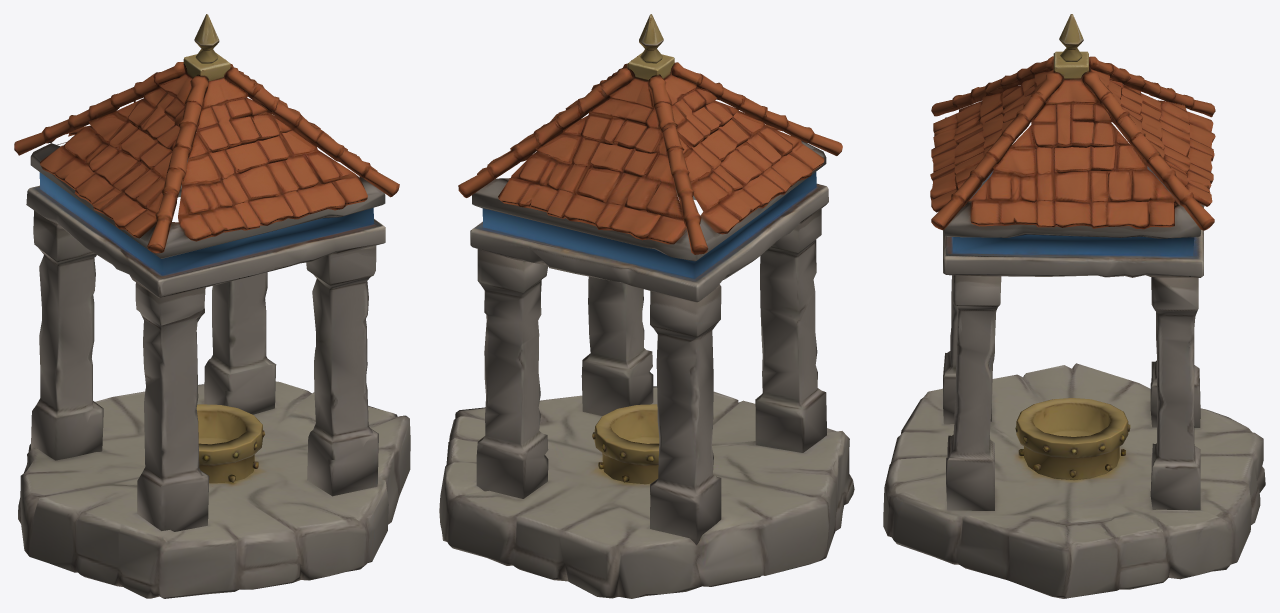
The model's file is tower_support_tripo.glb.
3 views of the same model, side by side, from view 1: azimuth 30°, elevation 25°; view 2: azimuth 150°, elevation 25°; view 3: azimuth 270°, elevation 25° (orthographic).
Parts seen in each view (by area): view 1: tripo_node_62811903-93da-4bff-84ef-159048b74133; view 2: tripo_node_62811903-93da-4bff-84ef-159048b74133; view 3: tripo_node_62811903-93da-4bff-84ef-159048b74133.
Part boxes in pixels (<box>): tripo_node_62811903-93da-4bff-84ef-159048b74133: <box>14,14,410,598</box>; tripo_node_62811903-93da-4bff-84ef-159048b74133: <box>439,14,854,598</box>; tripo_node_62811903-93da-4bff-84ef-159048b74133: <box>883,14,1265,598</box>.
Size of the model in its own units: 0.791 by 0.998 by 0.7012.
1 material, 1 textured.
